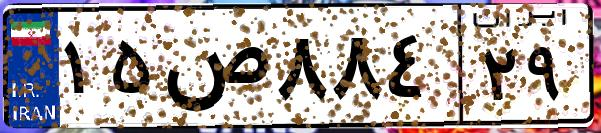1: (57, 26, 110, 100)
2: (475, 38, 525, 113)
4: (385, 28, 445, 110)
5: (110, 28, 158, 98)
8: (270, 28, 330, 110), (330, 28, 385, 110)
9: (525, 38, 570, 115)
ص: (158, 20, 270, 120)
